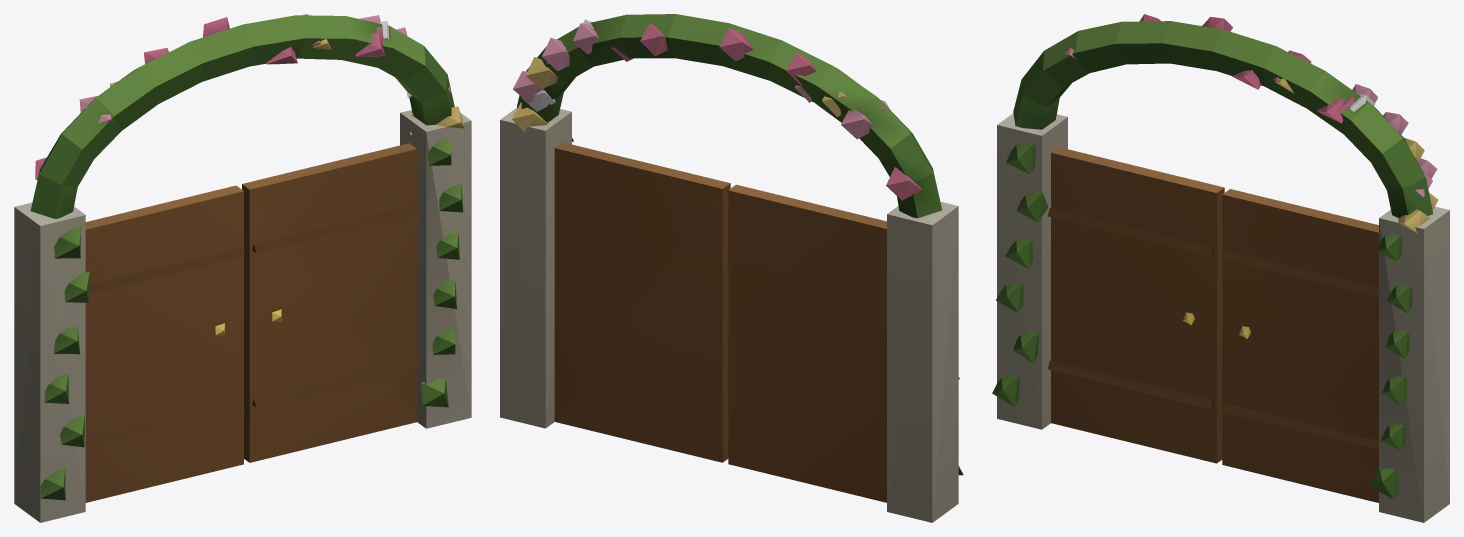
File: flowerarch.glb
3 views of the same model, side by side, from view 1: azimuth 30°, elevation 25°; view 2: azimuth 150°, elevation 25°; view 3: azimuth 330°, elevation 25° (orthographic).
Visible parts, largest first — view 1: base, doorR_m, doorL_m; view 2: base, doorR_m, doorL_m; view 3: base, doorL_m, doorR_m.
Boxes of the visible parts, box(x1,y1,x2,y2) form: base: box(14, 14, 471, 522); doorR_m: box(242, 143, 420, 462); doorL_m: box(85, 185, 244, 502); base: box(500, 14, 963, 522); doorR_m: box(554, 142, 730, 462); doorL_m: box(728, 184, 886, 502); base: box(992, 14, 1449, 522); doorL_m: box(1047, 147, 1224, 463); doorR_m: box(1221, 189, 1378, 502).
Size of the model in its own units: 0.7643 by 0.7402 by 0.1192.
